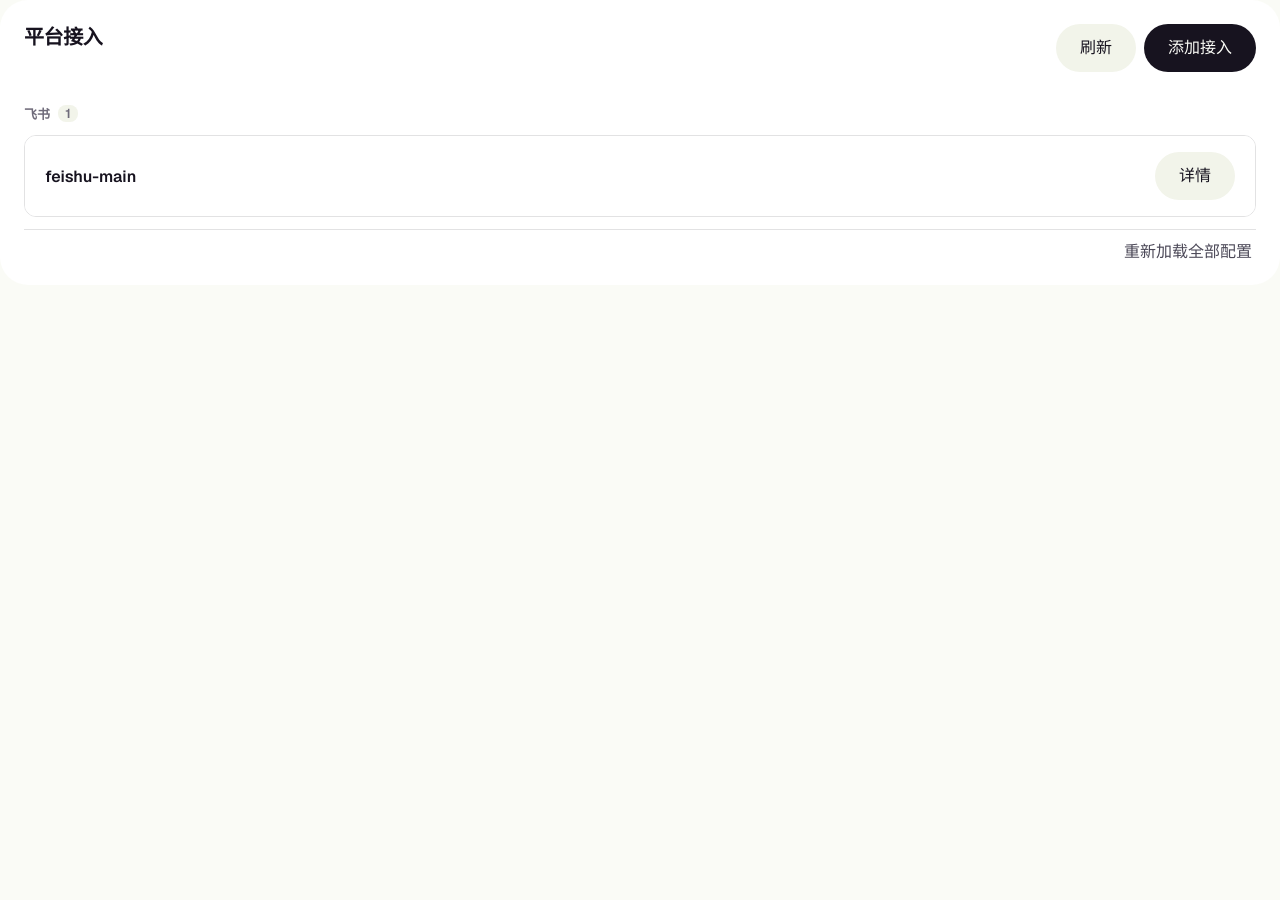
Test: platform integrations: refused operations › reports a refused add before the dialog opens
This screenshot has width=1280, height=900.
Expected: the list named "平台接入列表" is shown, [24, 88, 1256, 217]
Click the button "添加接入". click: coordinates (1200, 48)
box: [1144, 24, 1256, 72]
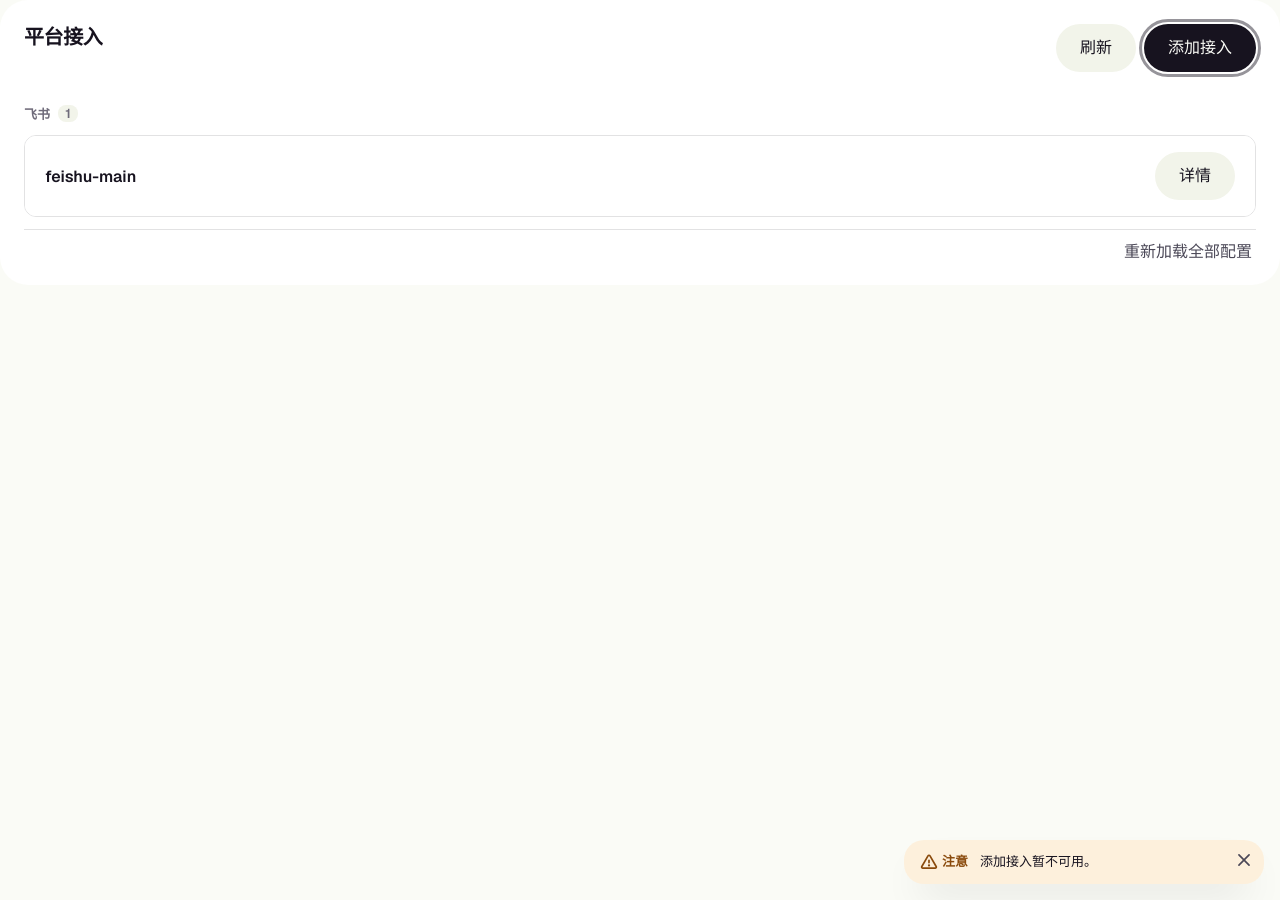
Expected: the number of elements with class "toast-warning" is 1, [904, 840, 1264, 884]
Expected: the text with class "toast-text" reads "添加接入暂不可用。", [980, 853, 1097, 870]
Expected: the button named "关闭提示" is shown, [1232, 848, 1256, 872]
